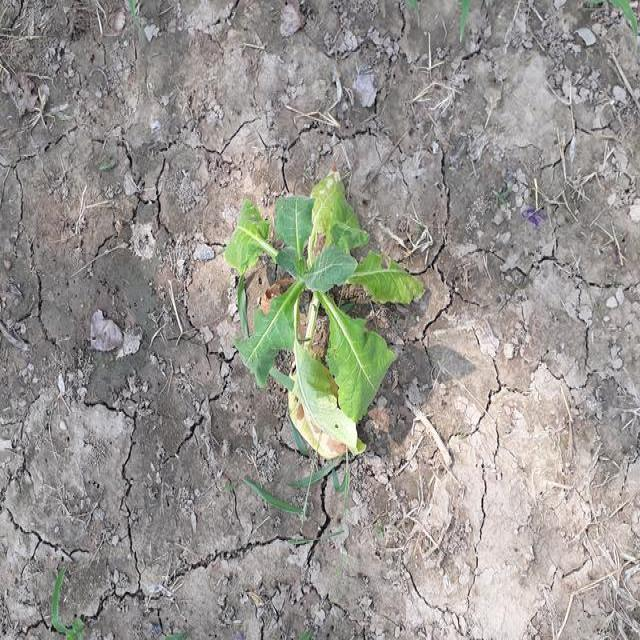crop: (229, 159, 427, 448)
